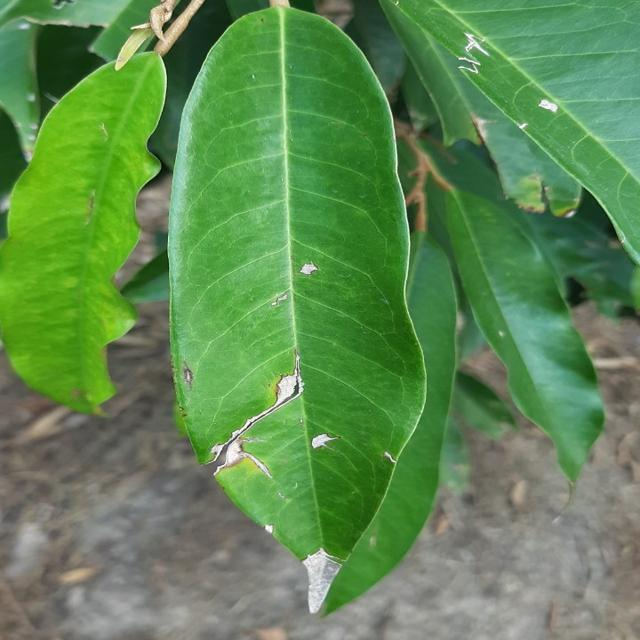Leaf Blight: (157, 11, 421, 620)
